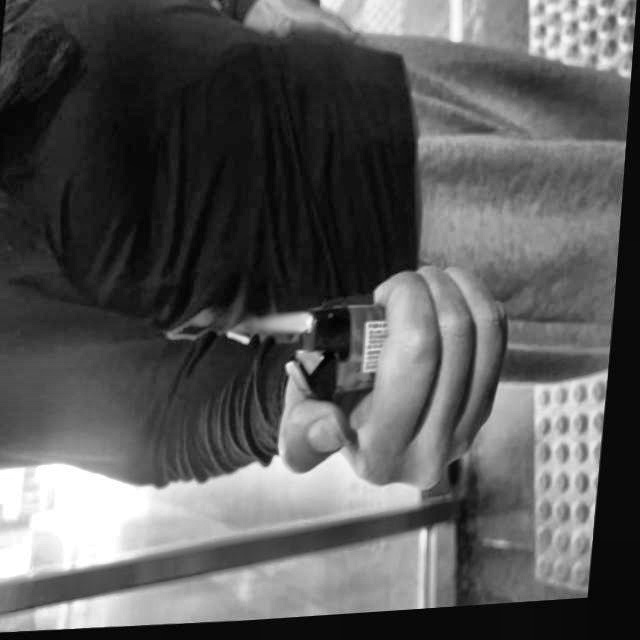Fire: (263, 310, 312, 342)
